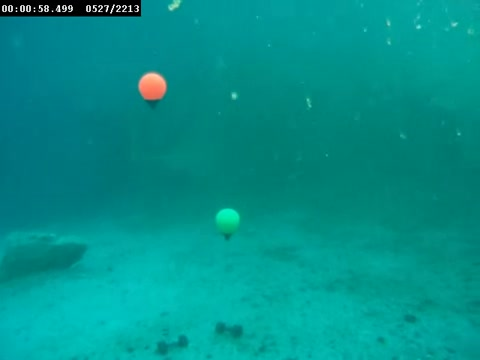buoy_green: (214, 205, 240, 243)
buoy_red: (134, 68, 169, 110)
